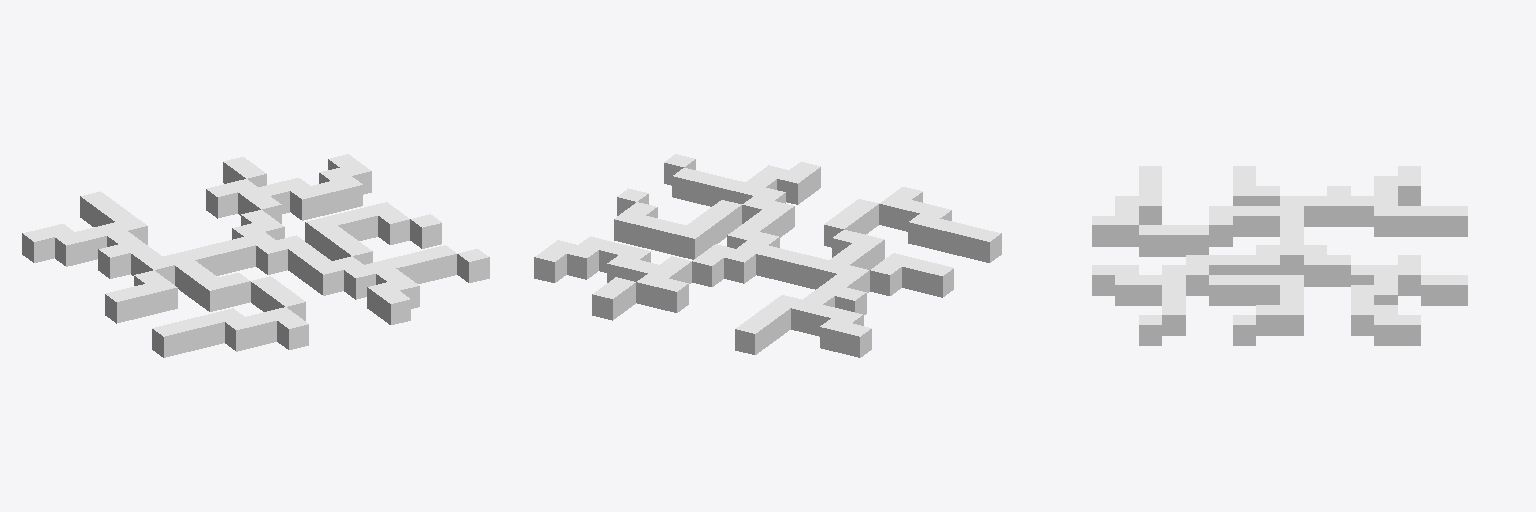
Rendered from deco_7.obj.
3 views of the same model, side by side, from view 1: azimuth 30°, elevation 25°; view 2: azimuth 150°, elevation 25°; view 3: azimuth 270°, elevation 25° (orthographic).
Size of the model in its own units: 16 by 1 by 16.